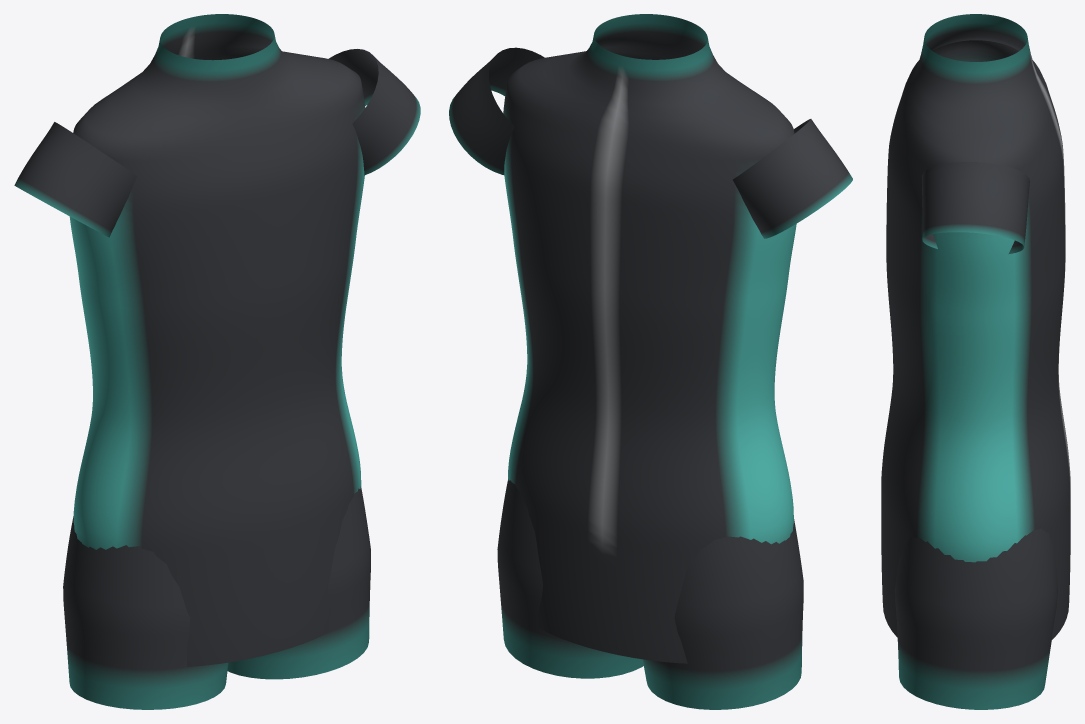
Rendered from shorty-22.glb.
3 views of the same model, side by side, from view 1: azimuth 30°, elevation 25°; view 2: azimuth 150°, elevation 25°; view 3: azimuth 270°, elevation 25° (orthographic). The views are drawn at different scales.
Parts seen in each view (by area): view 1: torse, jambe-1, jambe1, bras-1, bras1; view 2: torse, jambe-1, jambe1, bras-1, bras1; view 3: torse, jambe1, bras1.
Boxes of the visible parts, x1,y1,x2,y2 form: torse: [69, 14, 365, 666]; jambe-1: [63, 516, 228, 709]; jambe1: [227, 486, 370, 679]; bras-1: [14, 122, 136, 237]; bras1: [328, 49, 420, 175]; torse: [503, 14, 796, 663]; jambe-1: [642, 519, 803, 709]; jambe1: [497, 479, 643, 678]; bras-1: [733, 119, 852, 238]; bras1: [449, 47, 544, 175]; torse: [881, 14, 1070, 639]; jambe1: [895, 528, 1057, 709]; bras1: [922, 162, 1029, 254].
Size of the model in its own units: 0.5078 by 0.786 by 0.22.
